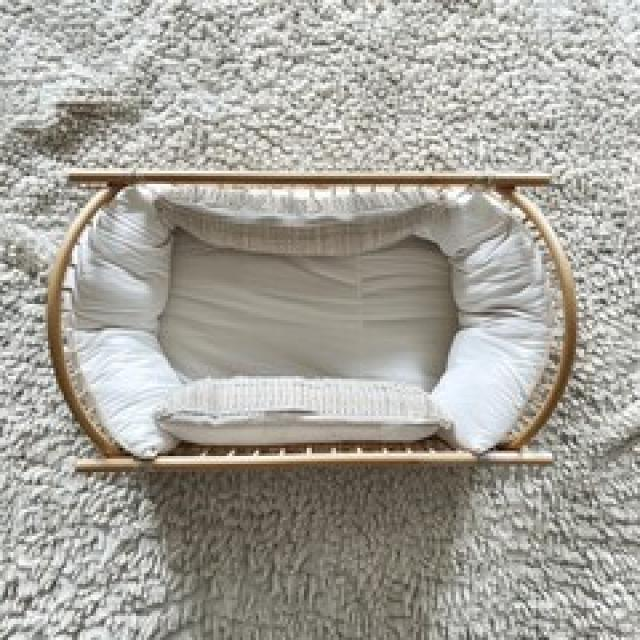crib: (42, 165, 578, 475)
